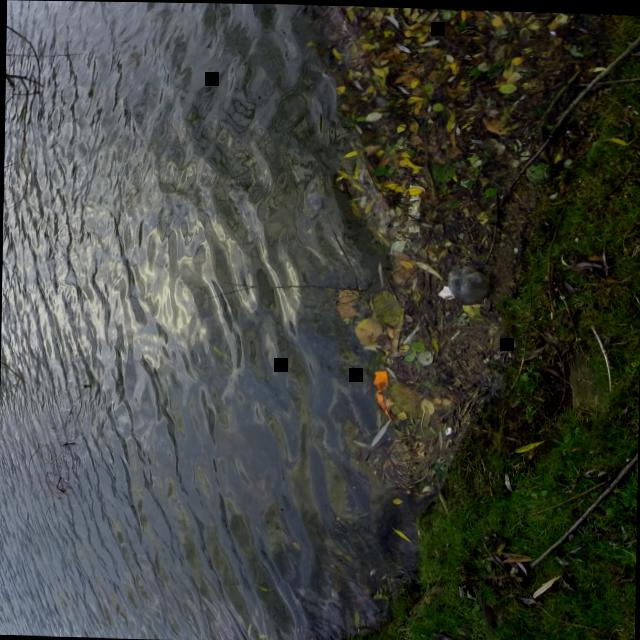Clear plastic bottle: (446, 264, 487, 303)
Other plastic: (371, 369, 391, 420)
